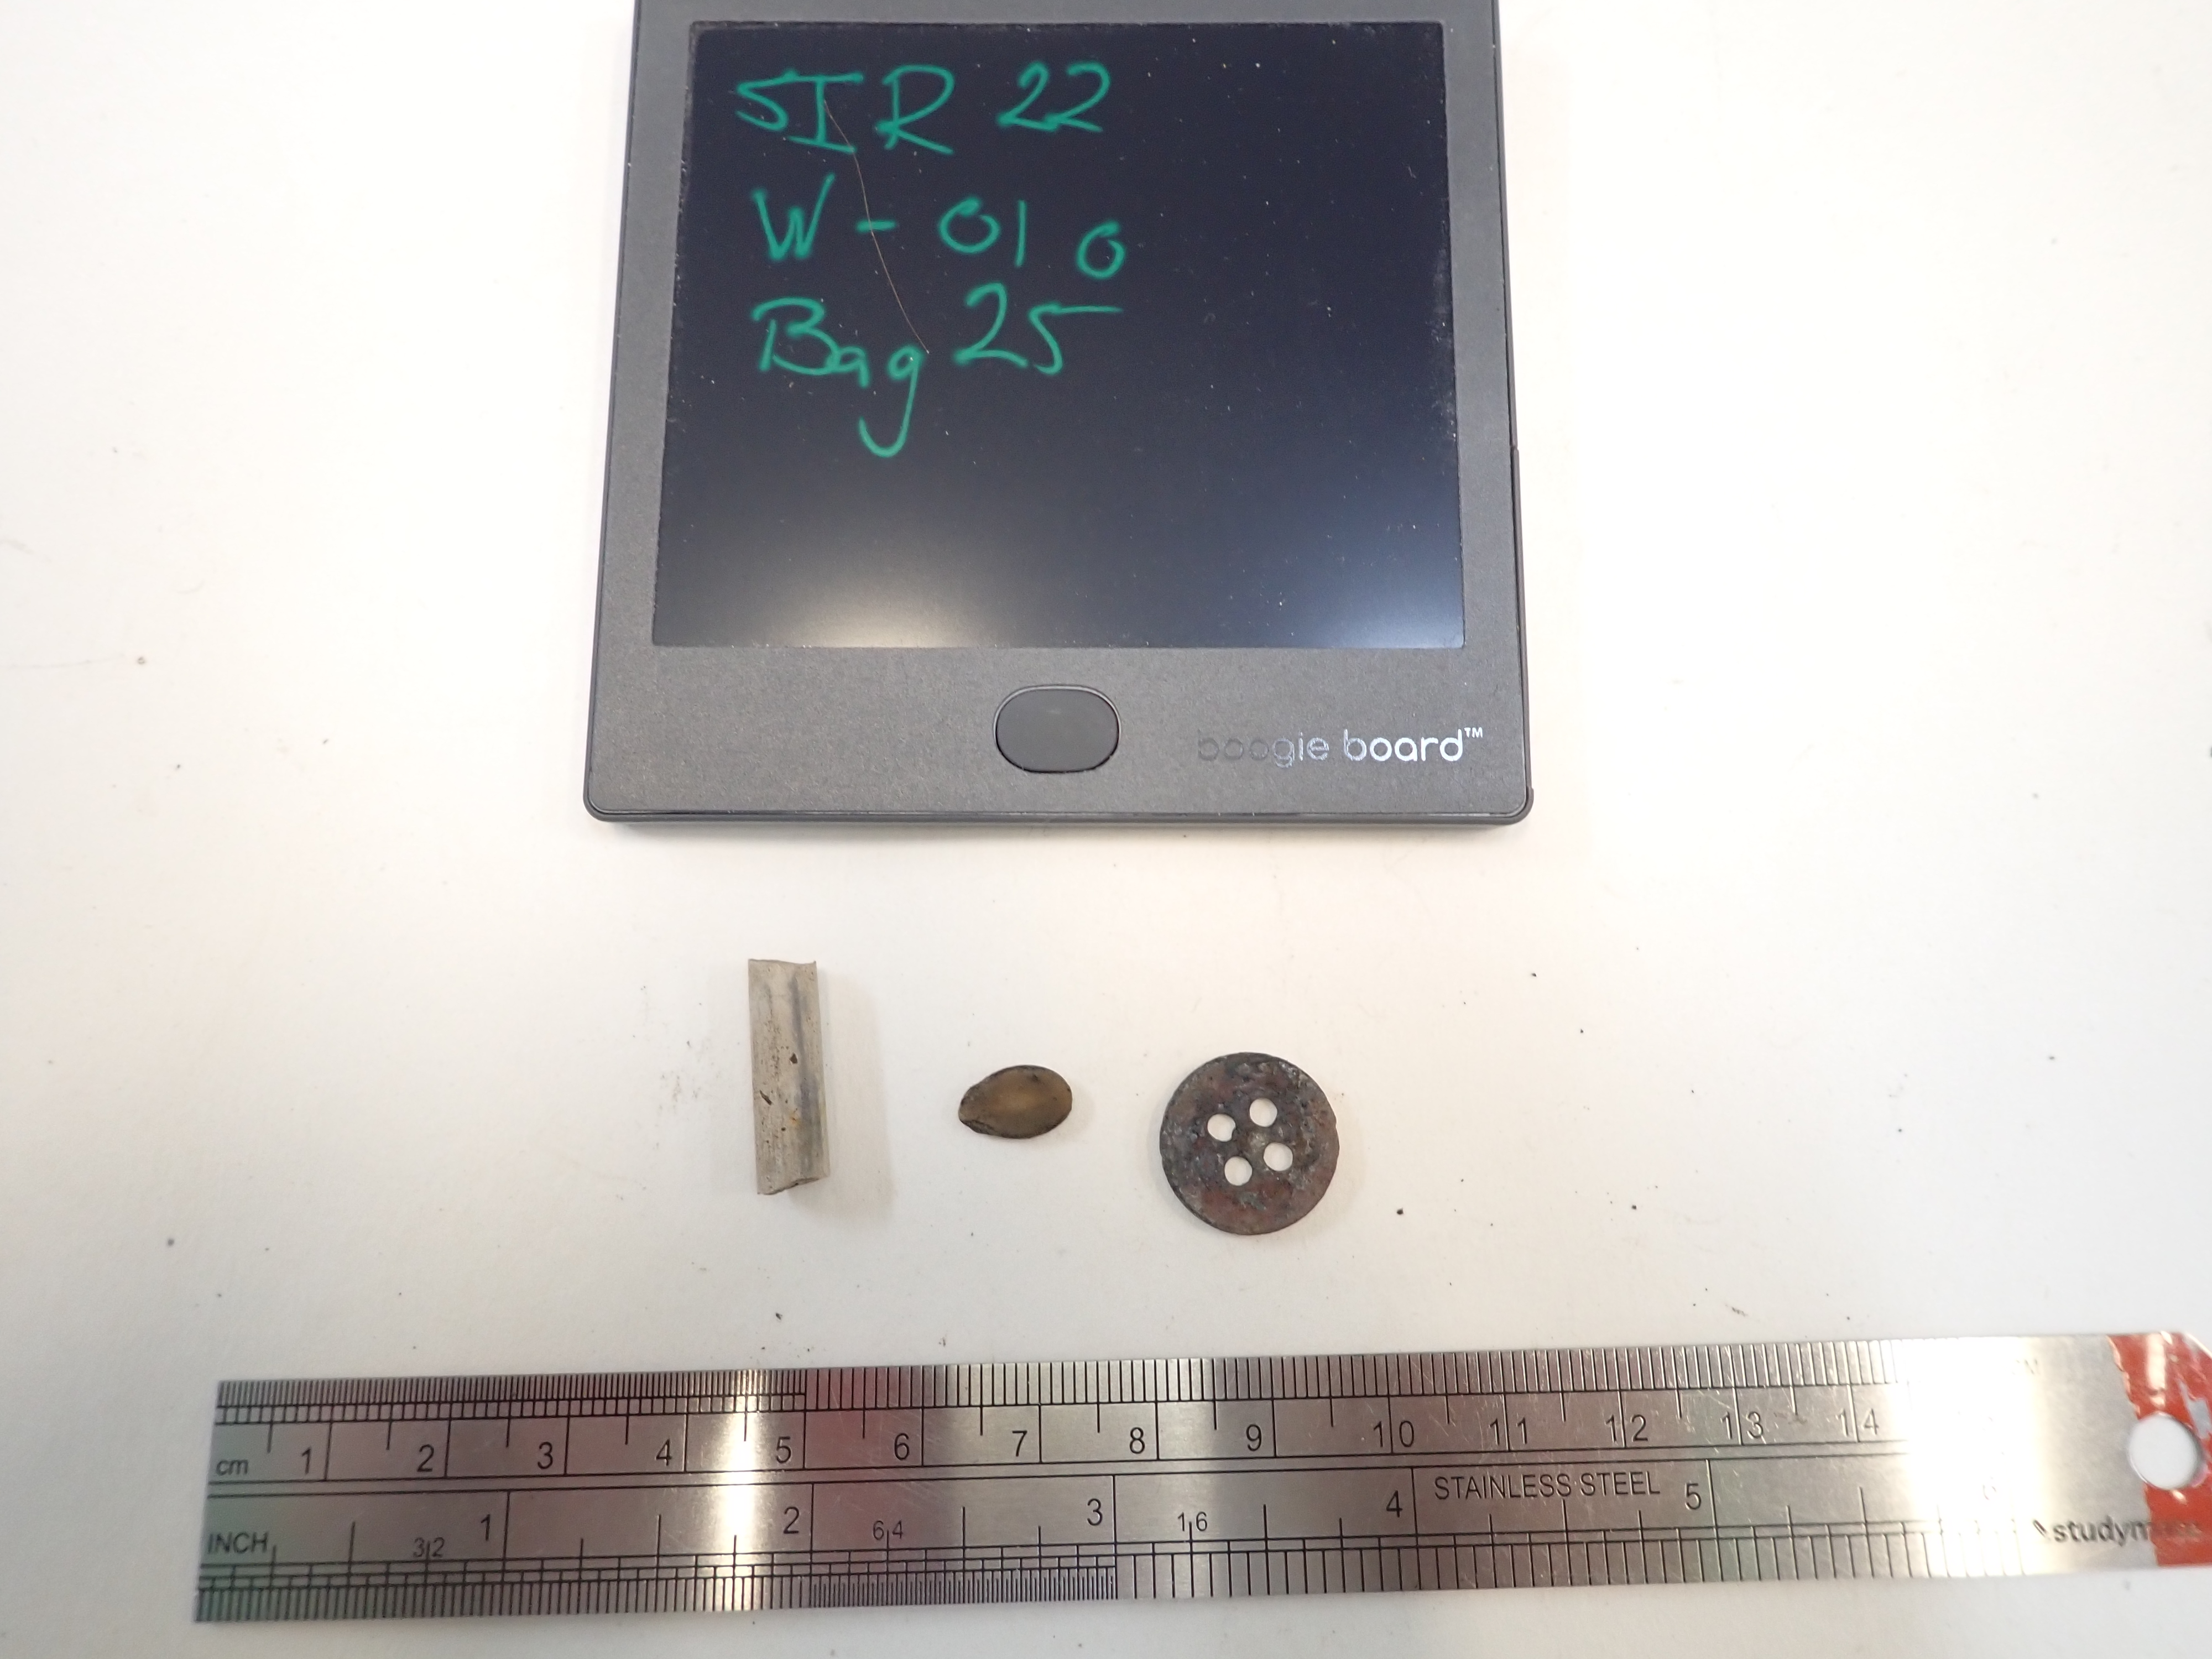Counted_Objects: (1144, 1037, 1355, 1243), (719, 927, 843, 1206), (935, 1033, 1087, 1161)
Not_Counted_Objects: (561, 0, 1566, 850), (179, 1309, 2212, 1631)
